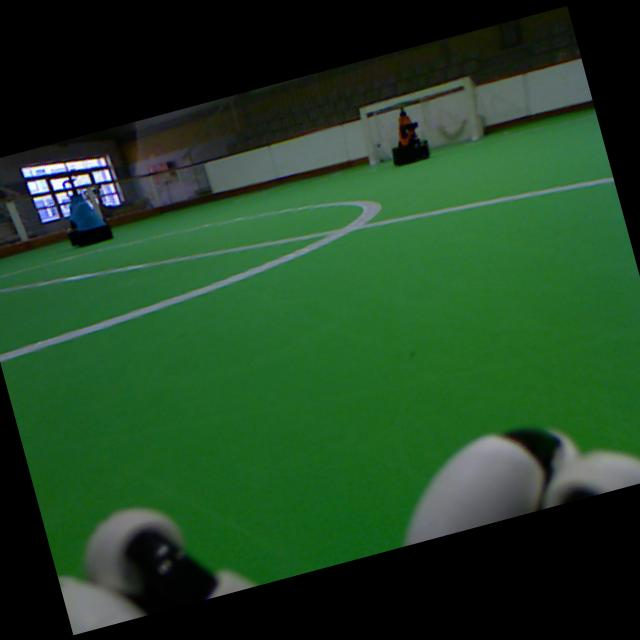goal: (461, 77, 477, 142), (358, 107, 375, 165)
robot: (393, 104, 428, 164)
